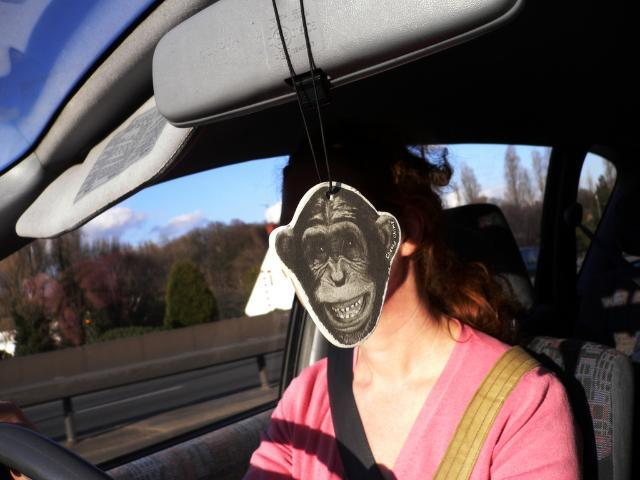Seatbelt: (330, 344, 380, 480)
